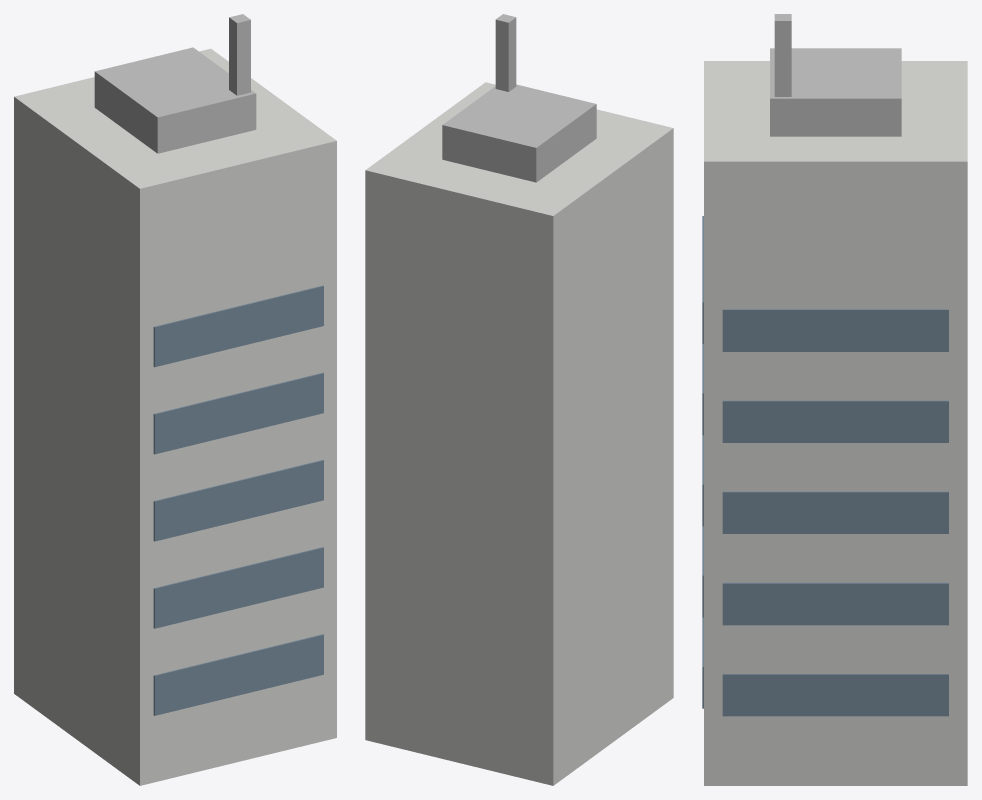
The model's file is building_0.glb.
The picture shows the model from 3 angles, left to right: view 1: azimuth 30°, elevation 25°; view 2: azimuth 150°, elevation 25°; view 3: azimuth 270°, elevation 25°; orthographic projection. The views are drawn at different scales.
Parts seen in each view (by area): view 1: building_0; view 2: building_0; view 3: building_0.
Boxes of the visible parts, x1=… form: building_0: x1=14, y1=14, x2=336, y2=785; building_0: x1=365, y1=14, x2=673, y2=785; building_0: x1=702, y1=14, x2=967, y2=785.
Bounding box in the file's own units: 2.86 × 9.72 × 3.16.
